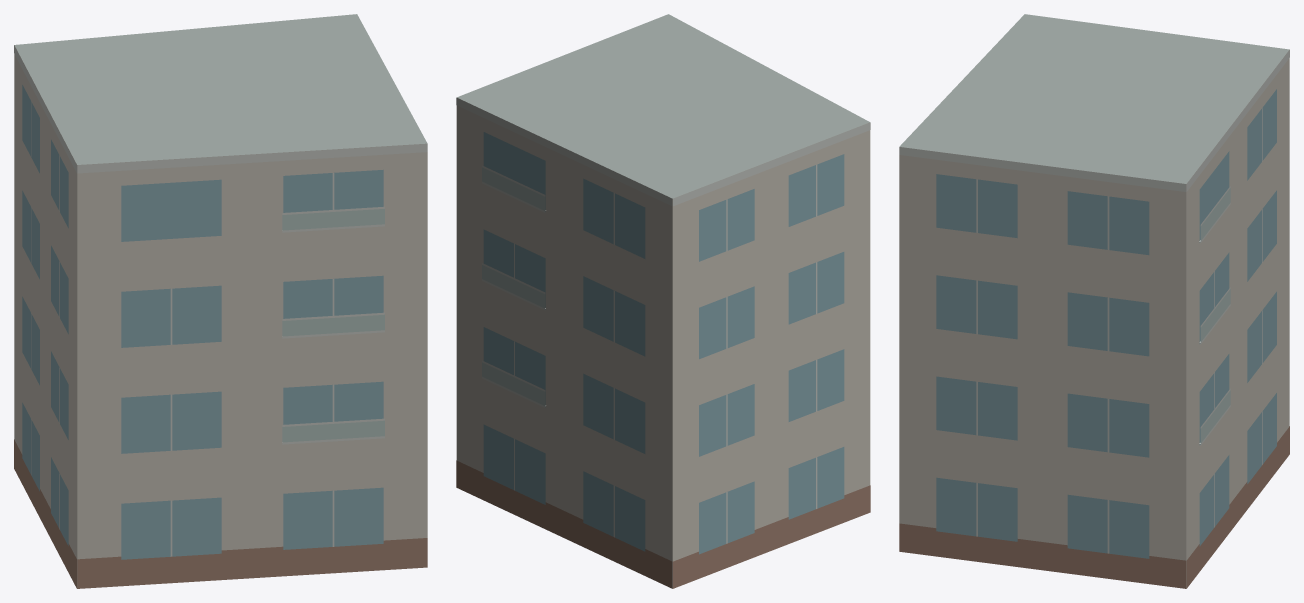
Rendered from survey-upis-32730439.glb.
The picture shows the model from 3 angles, left to right: view 1: azimuth 30°, elevation 25°; view 2: azimuth 150°, elevation 25°; view 3: azimuth 270°, elevation 25°; orthographic projection. The views are drawn at different scales.
Parts seen in each view (by area): view 1: survey-upis-32730439.tmp; view 2: survey-upis-32730439.tmp; view 3: survey-upis-32730439.tmp.
Boxes of the visible parts, x1,y1,x2,y2 form: survey-upis-32730439.tmp: (14, 14, 427, 588); survey-upis-32730439.tmp: (456, 14, 870, 588); survey-upis-32730439.tmp: (899, 14, 1289, 588).
Bounding box in the file's own units: 11 × 12.2 × 10.68.
